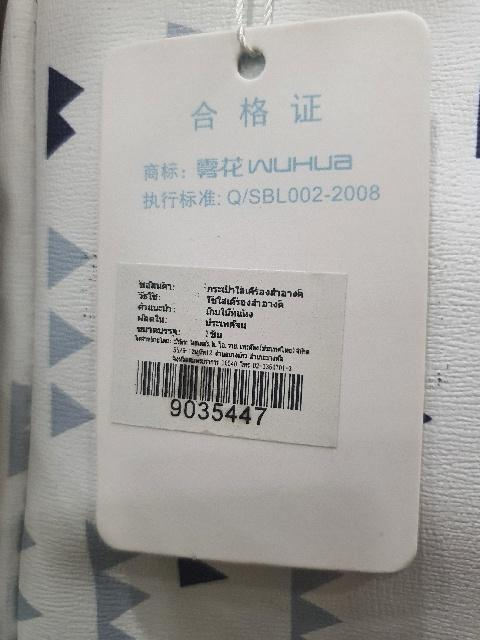Barcode: (127, 354, 317, 425)
